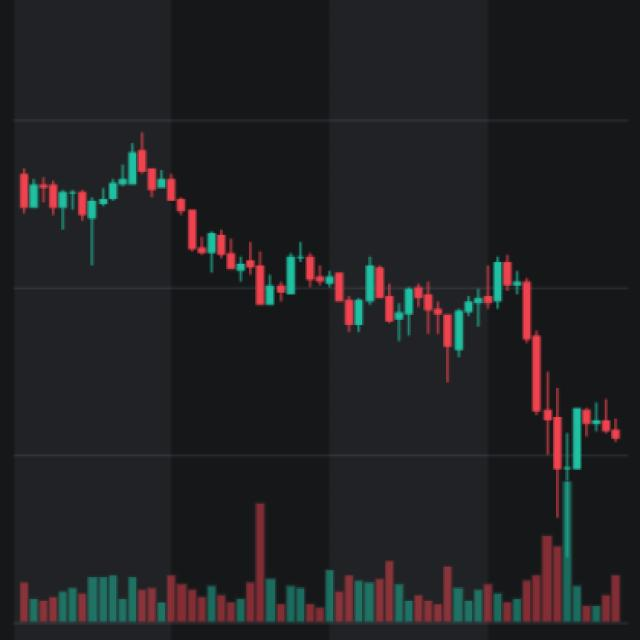Support-breakout: (452, 252, 565, 499)
